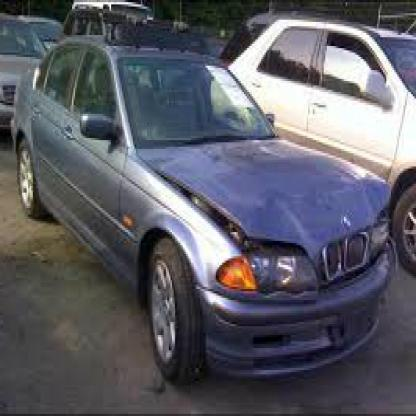dent: (250, 187, 308, 231), (368, 182, 392, 222)
